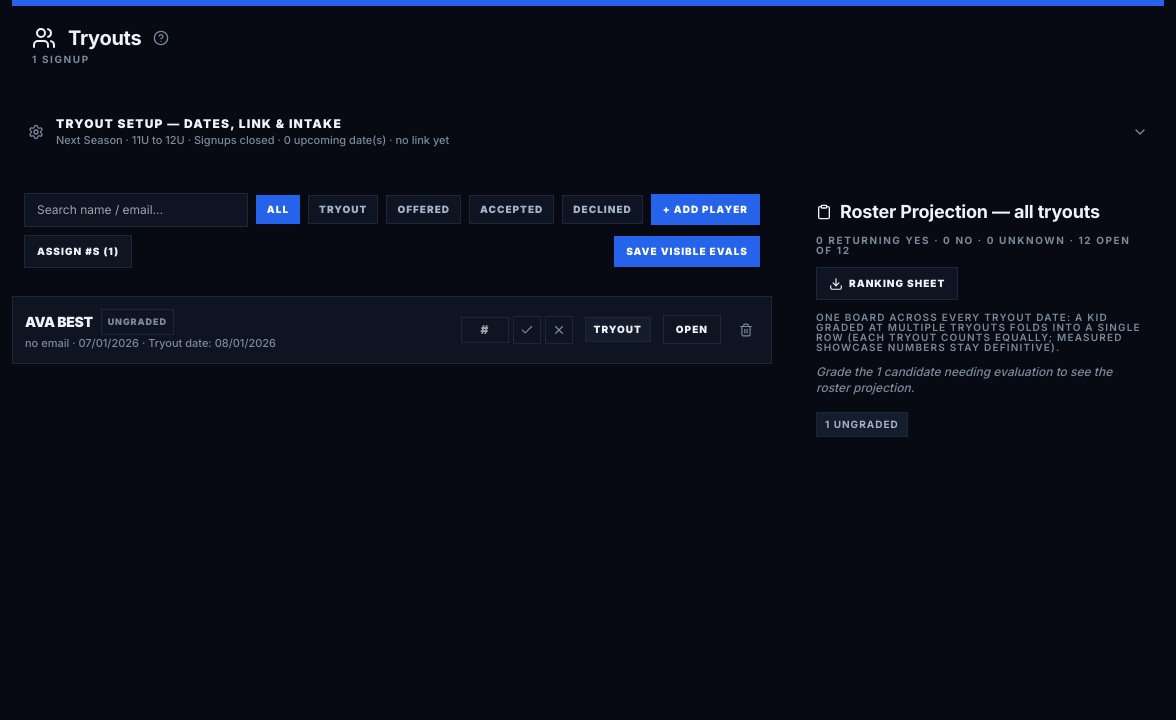
Test case: TryoutsTab › hand-grades hitting ONLY — no duplicate rows for tools the showcase measures
Click the button "Open".
click(692, 330)  # box [663,315,721,344]
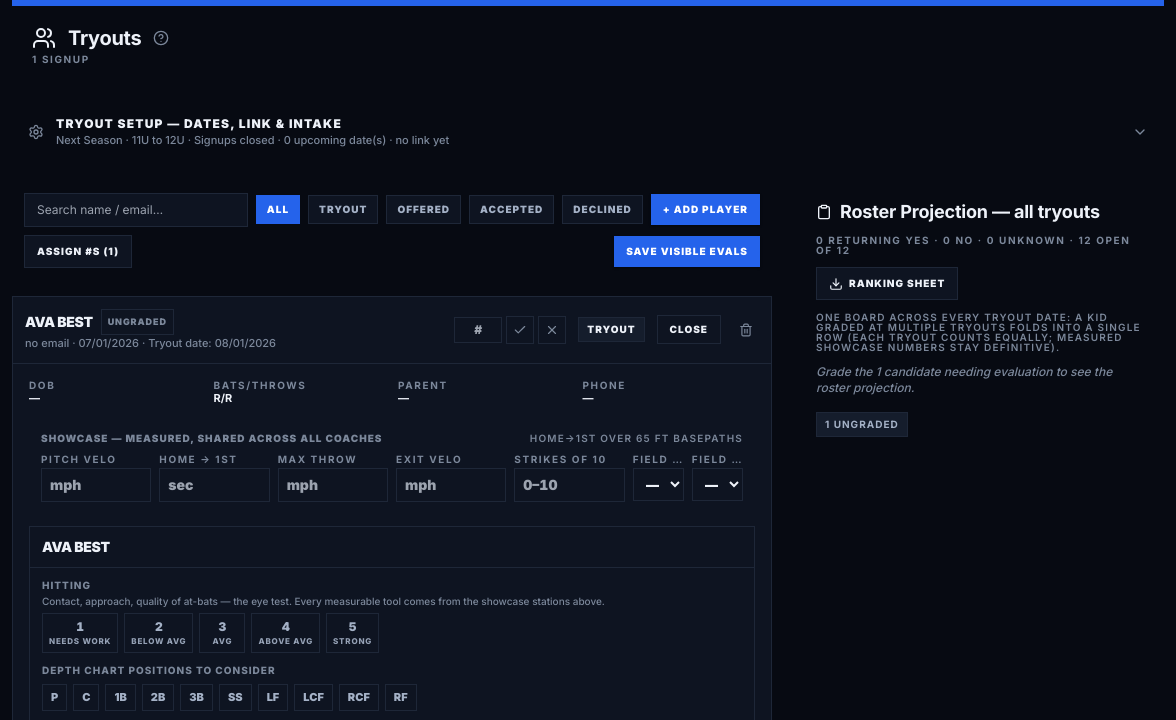
Expected: the element named "Ava Best Hitting" is shown, [42,613,379,653]
